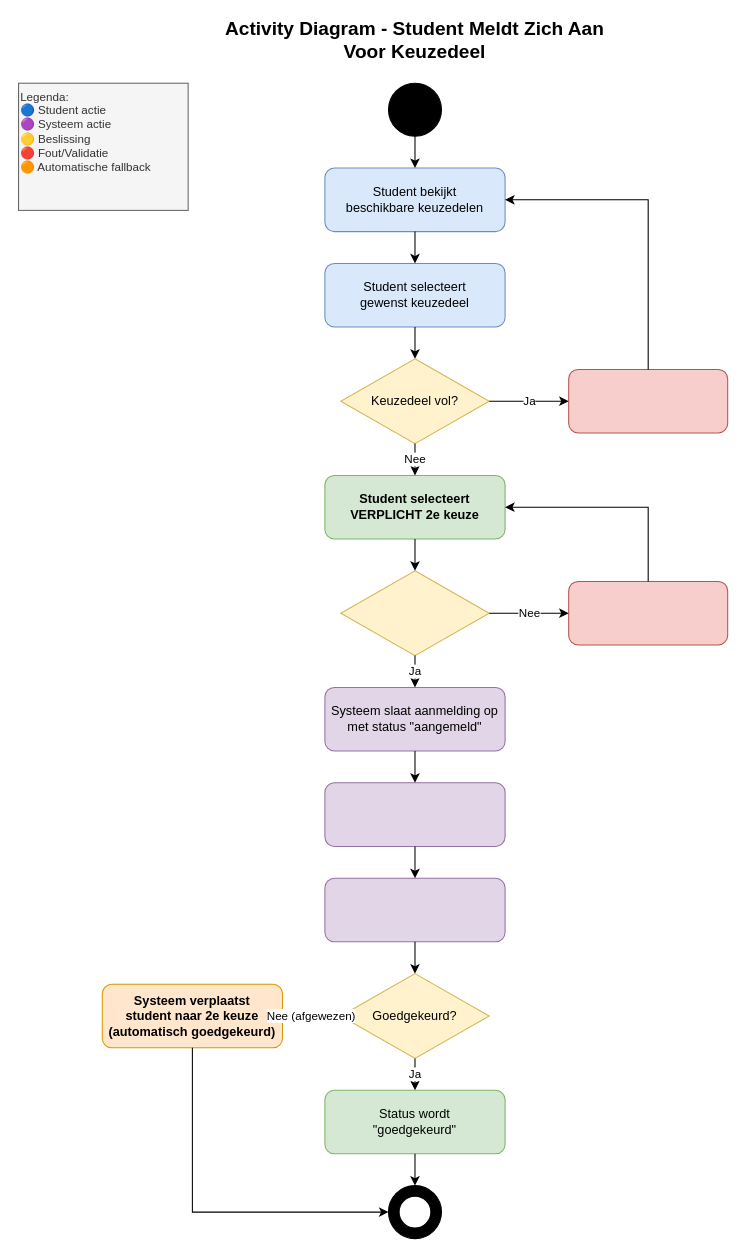
This 746x1257 diagram has some shape labels left out. Here are the shapes that lost their labels. From the top down, the centre of each, then its label:
[648,400]: Toon foutmelding: "Keuzedeel is vol"
[414,613]: 2e keuze geselecteerd?
[648,612]: Toon validatiefout: "2e keuze verplicht"
[414,814]: Systeem stuurt bevestigingsnotificatie
[414,909]: Docent beoordeelt aanmelding
